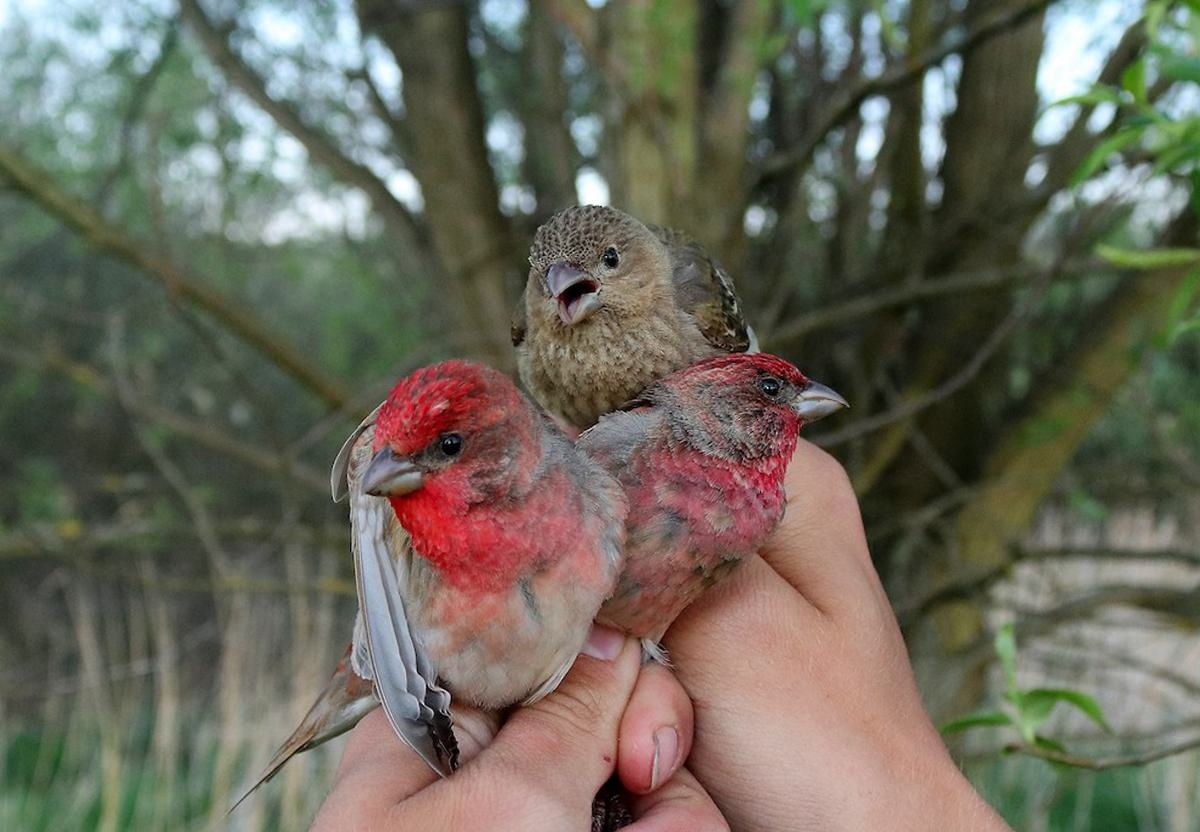rosefinch: (330, 351, 599, 720), (584, 344, 876, 634), (485, 177, 767, 381)
